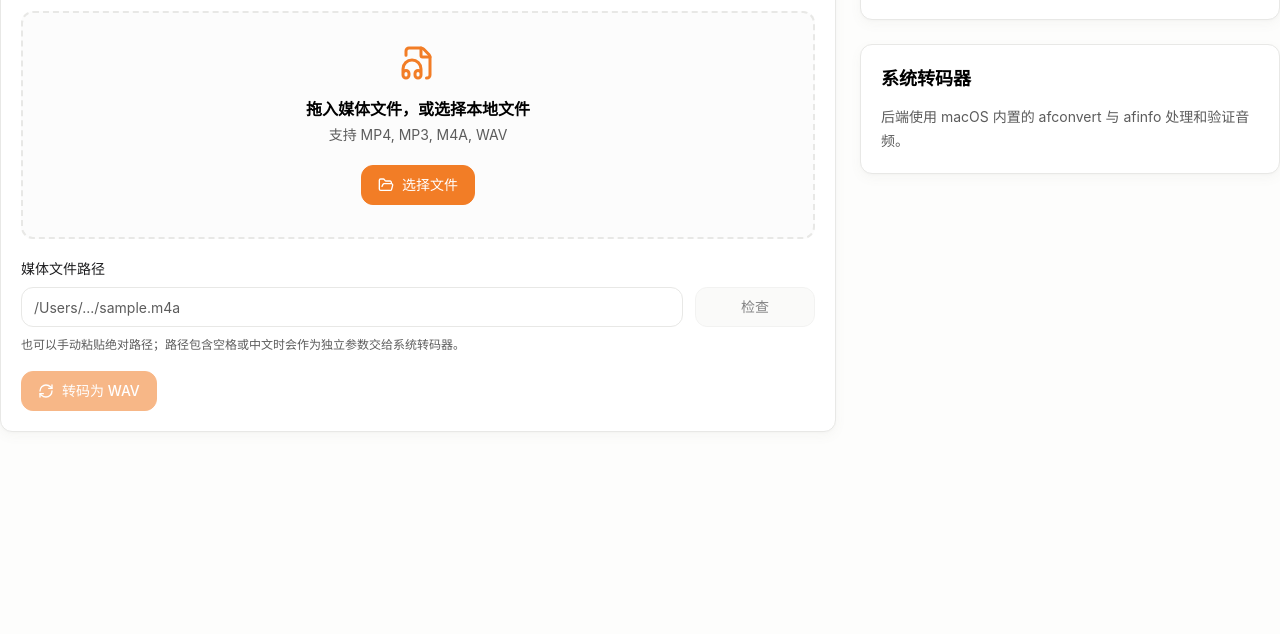
Scenario: MediaPage › runs Azure speech assessment after transcode and renders transcript tokens
In the field labelled "媒体文件路径": (352, 307) [21,287,683,327], type "/Users/test/audio.m4a"
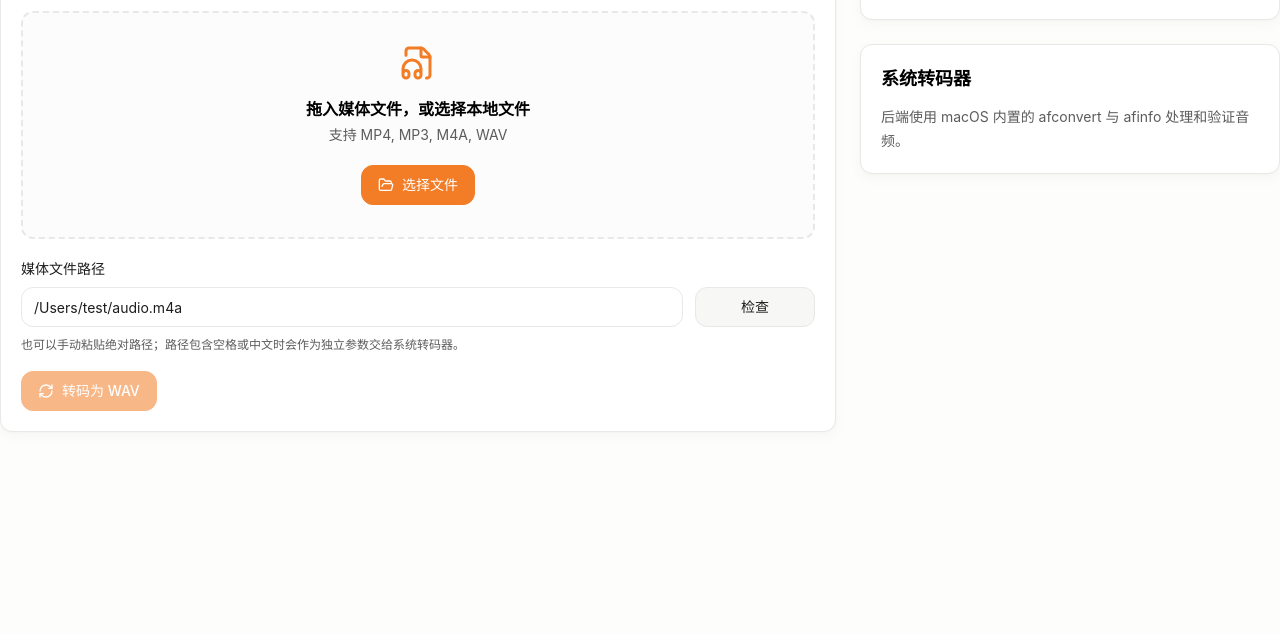
Click the button "检查": (755, 307) [695,287,815,327]
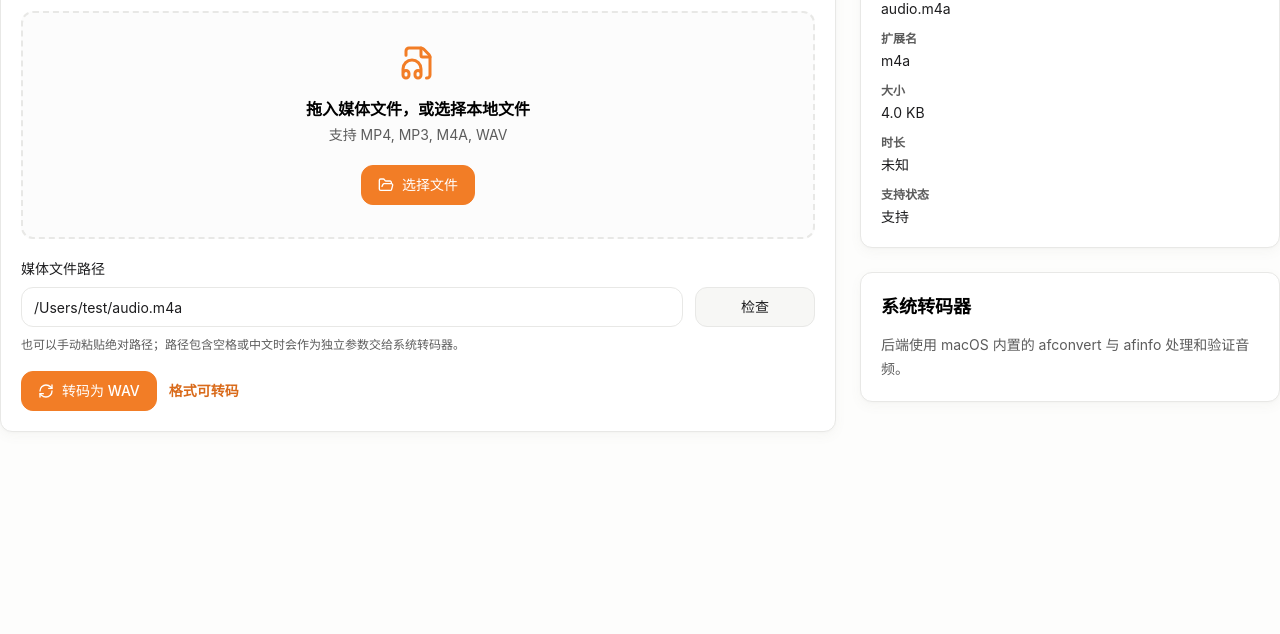
Now the text "格式可转码" is shown, box [169,381,239,401]
Click the button "转码为 WAV": (89, 391) [21,371,157,411]
(page scrolled)
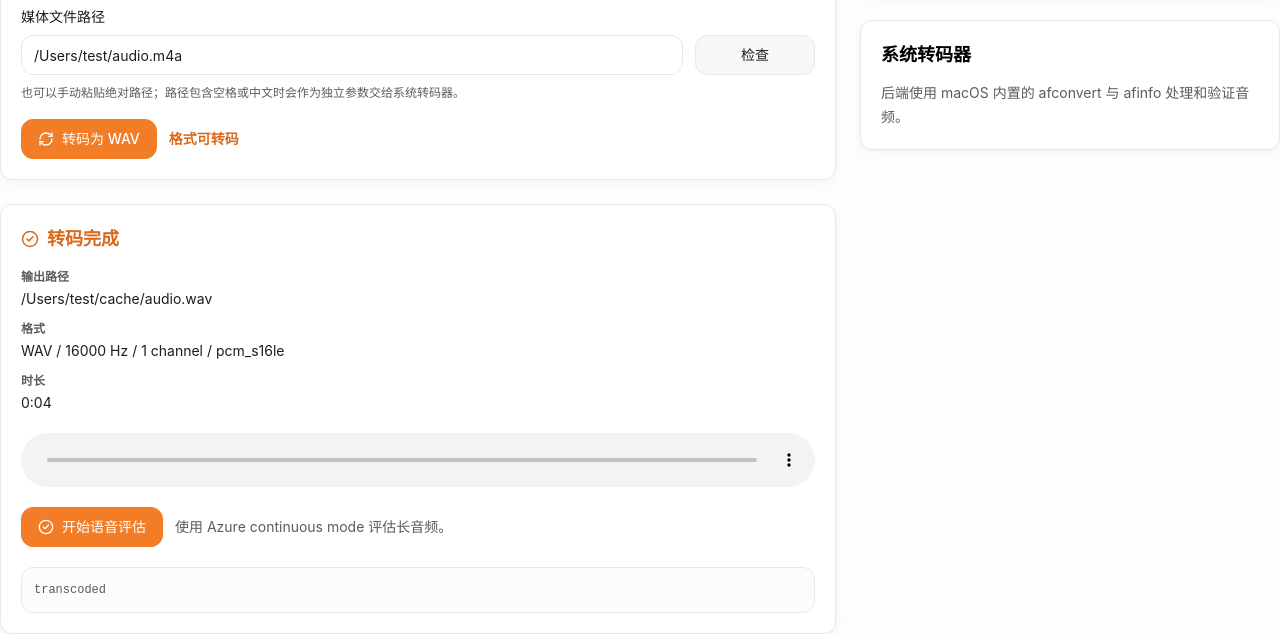
Now the heading "转码完成" is shown, box [47,225,119,253]
Click the button "开始语音评估": (92, 527) [21,507,163,547]
(page scrolled)
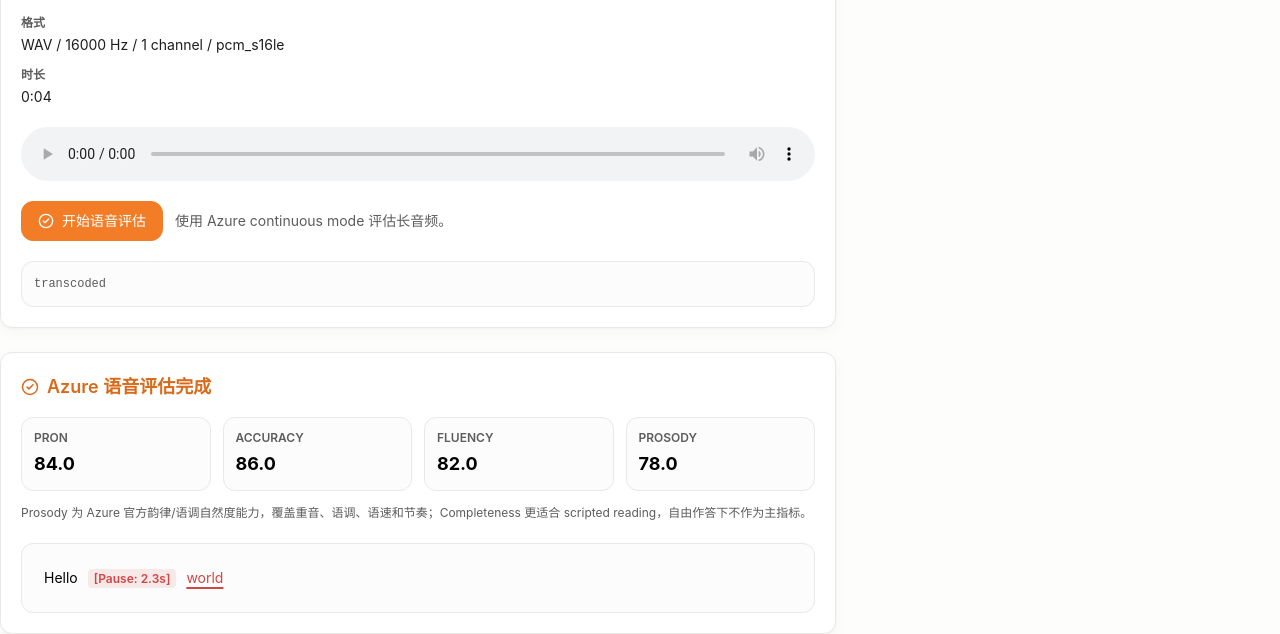
Now the heading "Azure 语音评估完成" is shown, box [47,373,211,401]
Now the text "84.0" is shown, box [34,453,75,474]
Now the button "Hello" is shown, box [40,560,82,596]
